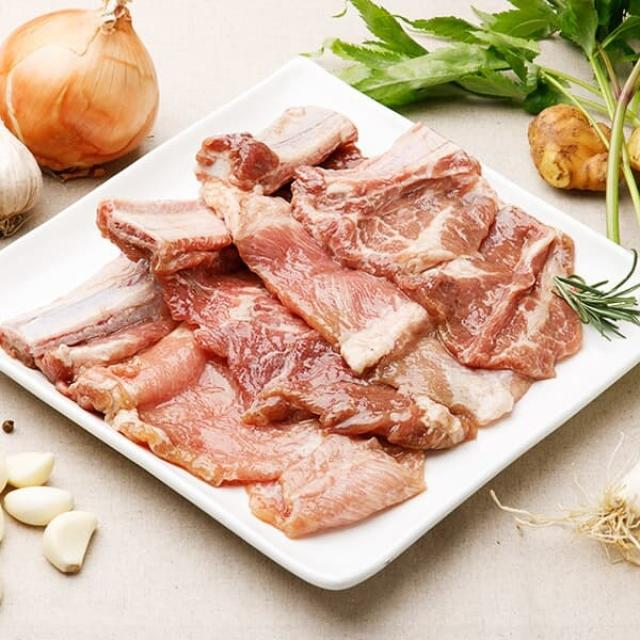pork: (0, 74, 606, 574)
